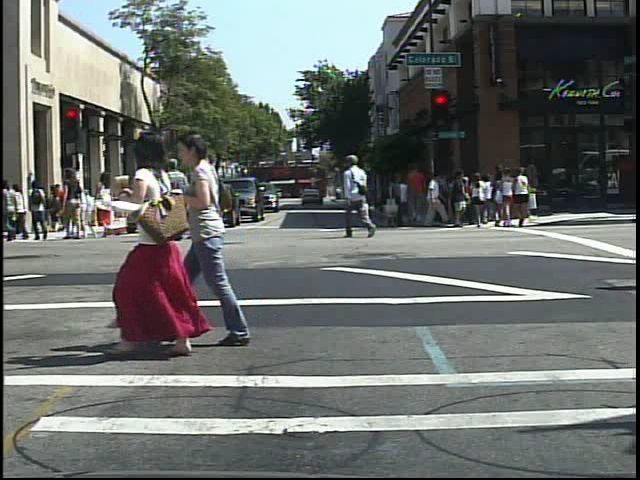person: (100, 127, 221, 358), (174, 128, 258, 352), (341, 149, 376, 242), (158, 154, 193, 243), (505, 163, 545, 231), (191, 155, 219, 245), (60, 166, 87, 243), (94, 172, 122, 238), (28, 179, 52, 242), (469, 170, 493, 232), (2, 178, 22, 246)
